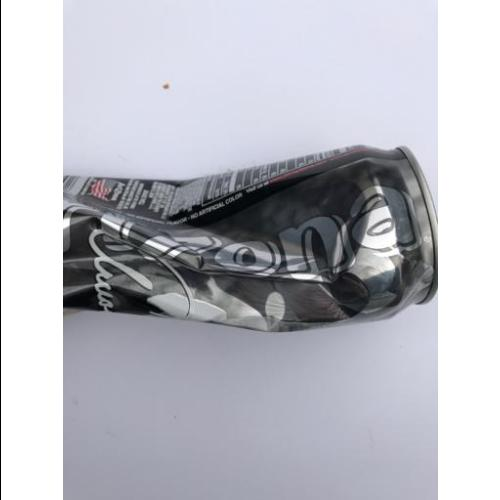metal: (63, 144, 438, 335)
